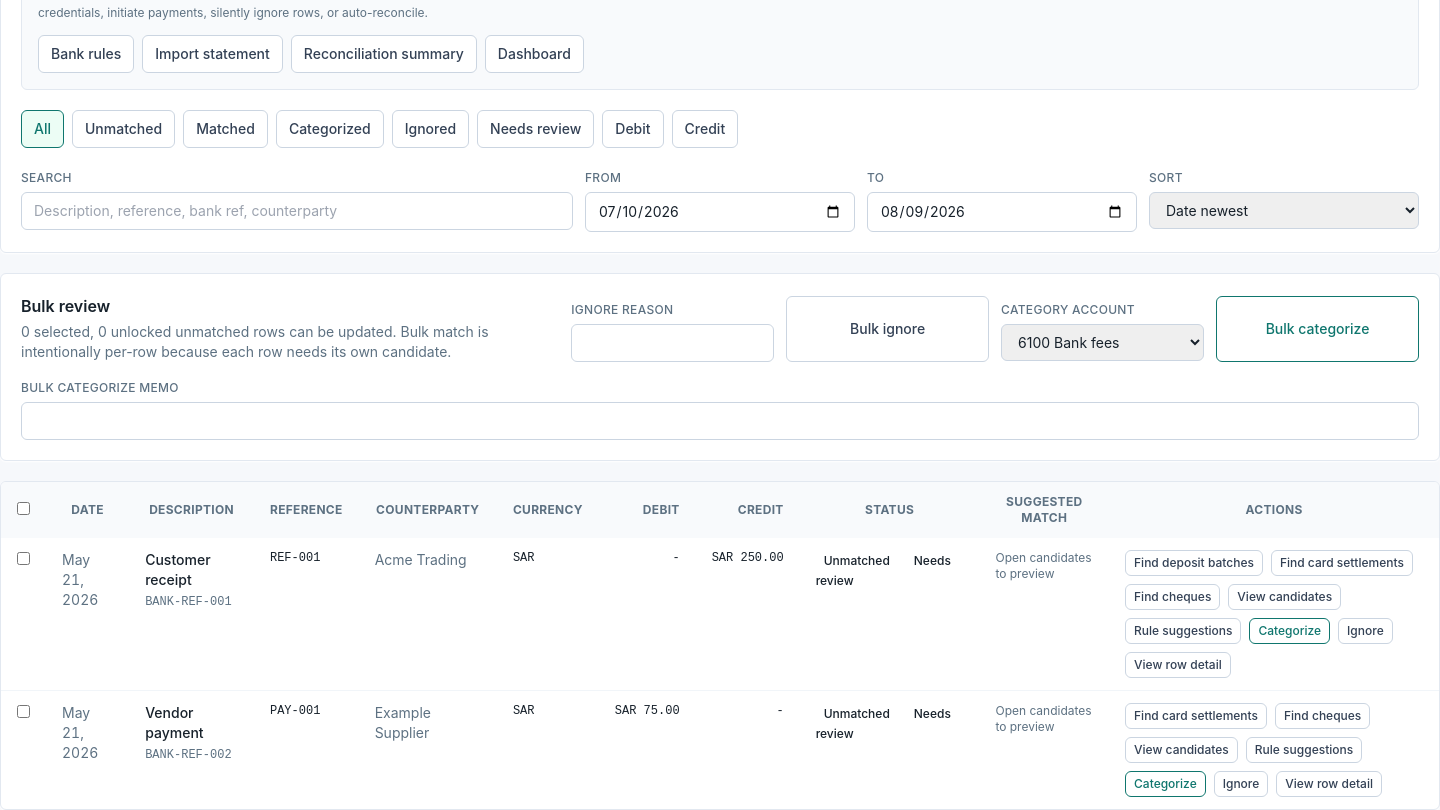
Test: BankStatementTransactionsPage › loads and explicitly applies a bank rule suggestion
The width and height of the screenshot is (1440, 810).
(page scrolled)
Click the 1st button "Rule suggestions": [1183, 631] box top-left (1125, 618), bottom-right (1241, 644)
(page scrolled)
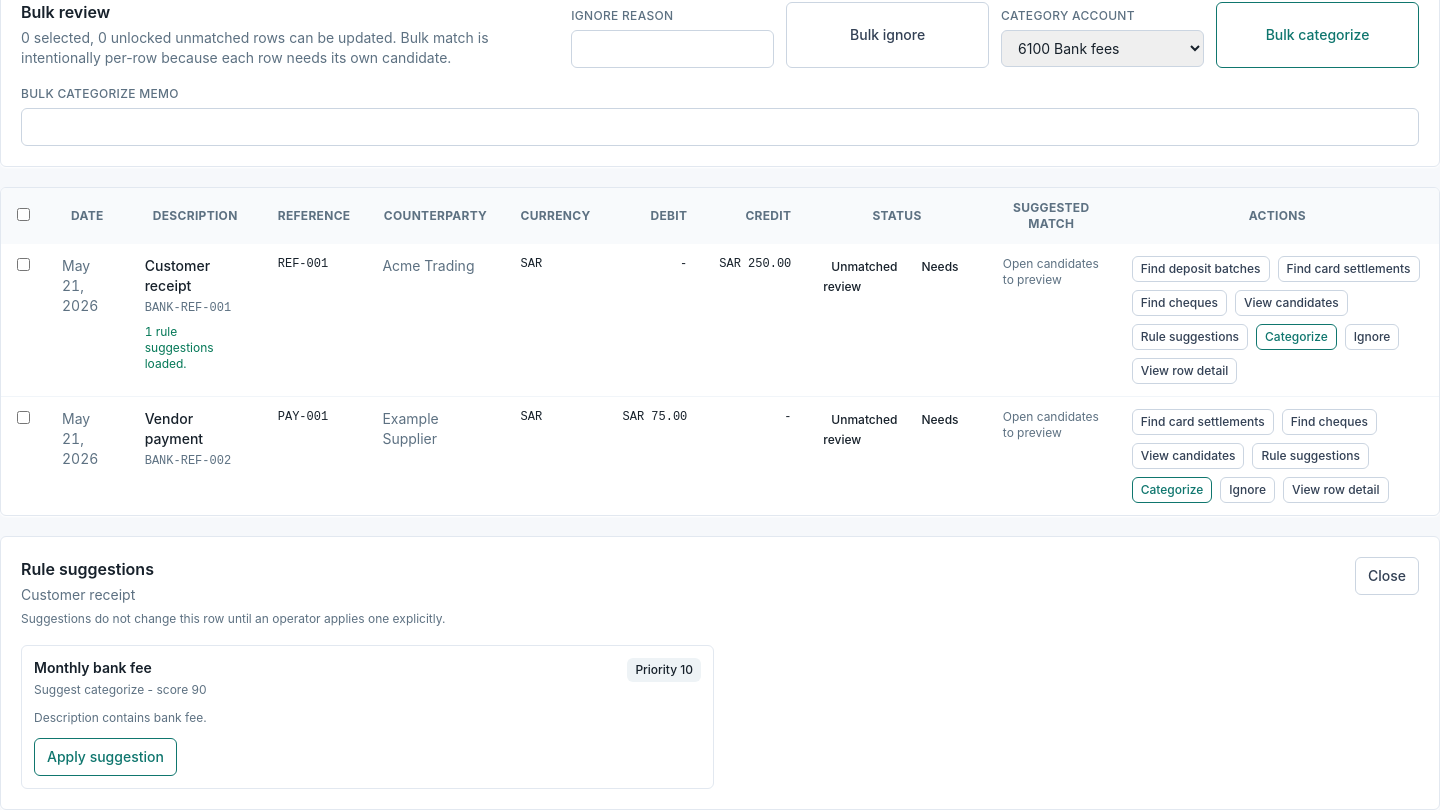
Expected: the heading "Rule suggestions" is shown, top-left (21, 559), bottom-right (154, 579)
Expected: the heading "Monthly bank fee" is shown, top-left (34, 659), bottom-right (152, 676)
Expected: the text "Suggestions do not change this row" is shown, top-left (21, 611), bottom-right (445, 626)
Click the button "Apply suggestion": [105, 757] box top-left (34, 738), bottom-right (177, 776)
(page scrolled)
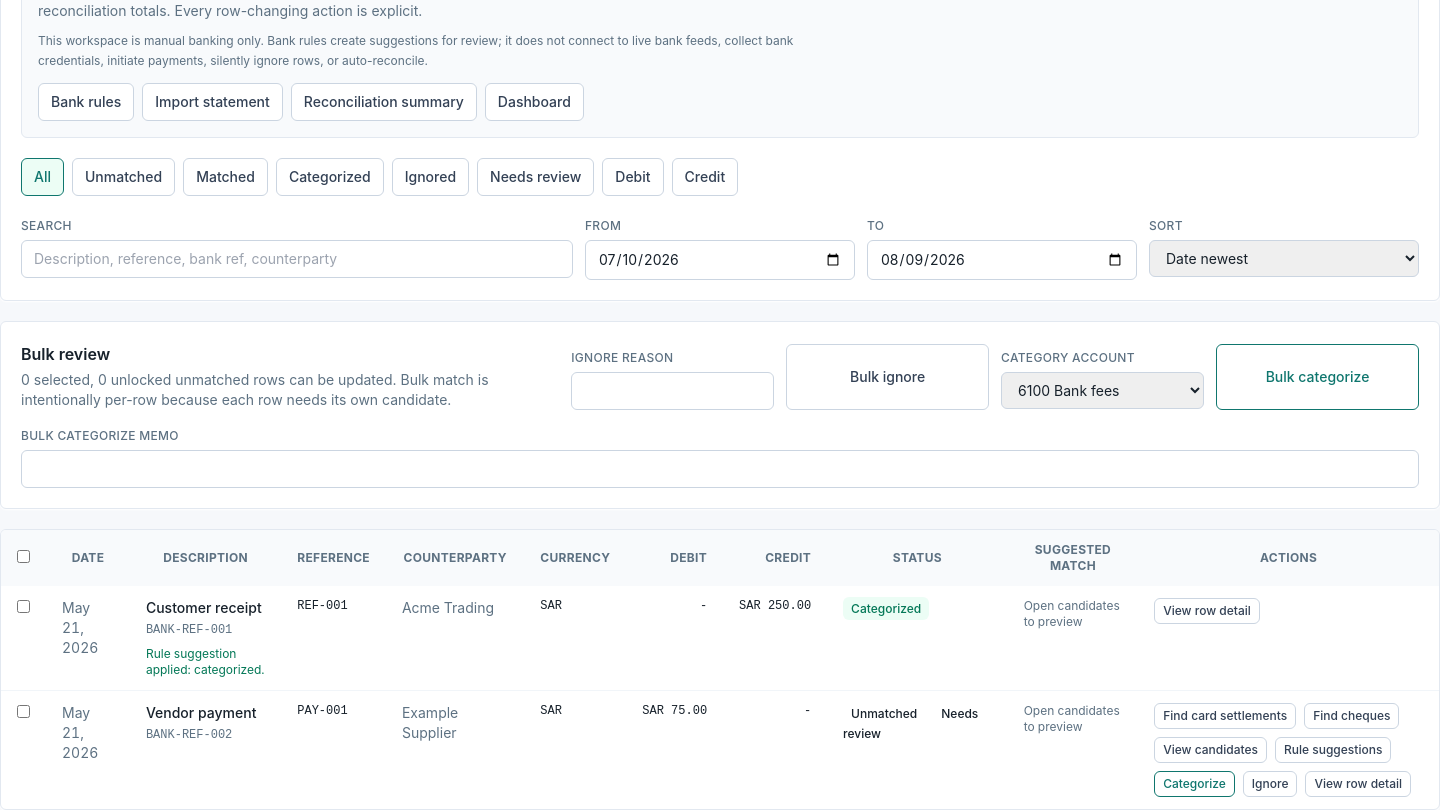
Expected: the text "Rule suggestion applied: categorized." is shown, top-left (146, 646), bottom-right (265, 678)
